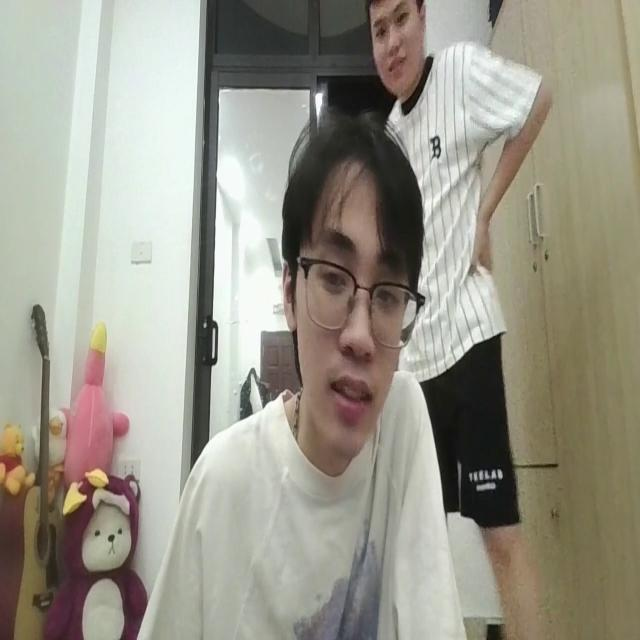extra_person: (364, 0, 556, 541)
student: (119, 111, 468, 640)
